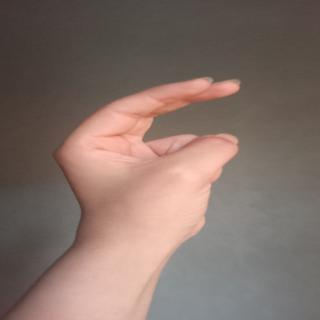ZAY: (43, 64, 298, 234)
